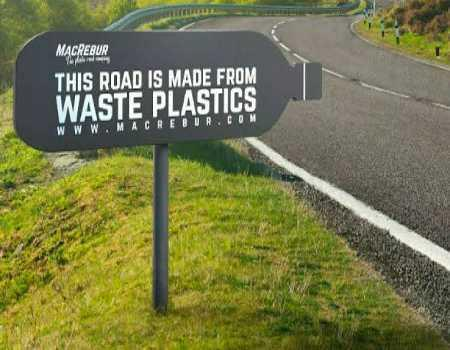indicator: (40, 33, 266, 139)
